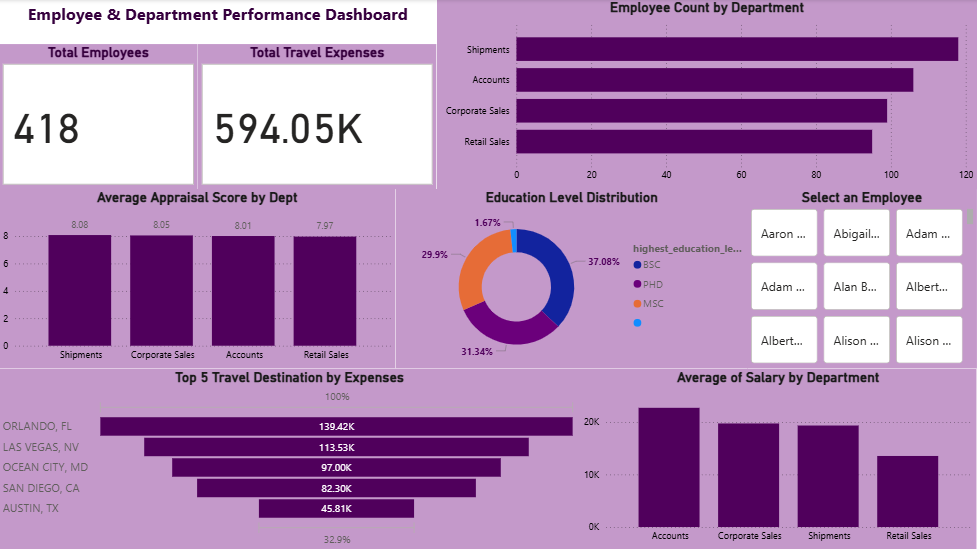

Layout of this report page (visuals, bound fields, positions):
{"tool":"powerbi","page":{"name":"Page 1","canvas":[1280,720],"ordinal":0},"visuals":[{"type":"clusteredColumnChart","title":"Average of Salary by Department","fields":{"Category":["departments.department"],"Y":["Avg(departments.salary)"]},"box":[760.9,483.8,519.1,236.9],"z":0},{"type":"clusteredBarChart","title":"Employee Count by Department","fields":{"Category":["departments.department"],"Y":["CountNonNull(employees._id)"]},"box":[572.8,0,707.2,248.6],"z":1000},{"type":"clusteredColumnChart","title":"Average Appraisal Score by Dept","fields":{"Category":["departments.department"],"Y":["Avg(appraisals.last_appraisal_score)"]},"box":[0,248.7,528.9,235.6],"z":2000},{"type":"donutChart","title":"Education Level Distribution","fields":{"Category":["employees.highest_education_level"],"Y":["CountNonNull(employees._id)"]},"box":[519.7,248.7,459.5,235.6],"z":3000},{"type":"funnel","title":"Top 5 Travel Destination by Expenses","fields":{"Y":["Sum(travel_expenses.actual_total_expenses)"],"Category":["travel_expenses.destination"]},"box":[0,483.8,760.9,236.9],"z":4000},{"type":"cardVisual","title":"Total Employees","fields":{"Data":["CountNonNull(employees._id)"]},"box":[0,58.8,260.4,189.8],"z":5000},{"type":"cardVisual","title":"Total Travel Expenses","fields":{"Data":["Sum(travel_expenses.actual_total_expenses)"]},"box":[260.5,58.9,312.9,189.8],"z":6000},{"type":"advancedSlicerVisual","title":"Select an Employee","fields":{"Values":["employees.name"]},"box":[970,248.7,310.3,235.6],"z":7000},{"type":"textbox","box":[0,0,572.8,58.8],"z":8000}]}

Visuals, with their boxes in screenshot pixels (x1, y1, x2, y2), scaled from the page's 1280x720 canvas onto the 977x549 screenshot:
"Average of Salary by Department" clusteredColumnChart: locate(581, 369, 976, 548)
"Employee Count by Department" clusteredBarChart: locate(437, 0, 976, 190)
"Average Appraisal Score by Dept" clusteredColumnChart: locate(0, 190, 404, 369)
"Education Level Distribution" donutChart: locate(397, 190, 747, 369)
"Top 5 Travel Destination by Expenses" funnel: locate(0, 369, 581, 548)
"Total Employees" cardVisual: locate(0, 45, 199, 190)
"Total Travel Expenses" cardVisual: locate(199, 45, 438, 190)
"Select an Employee" advancedSlicerVisual: locate(740, 190, 976, 369)
textbox: locate(0, 0, 437, 45)
